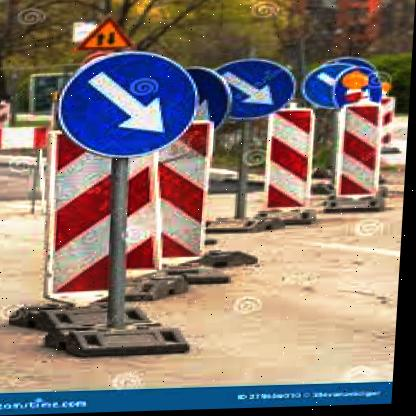Keep right: (57, 53, 202, 163), (208, 60, 298, 121)
